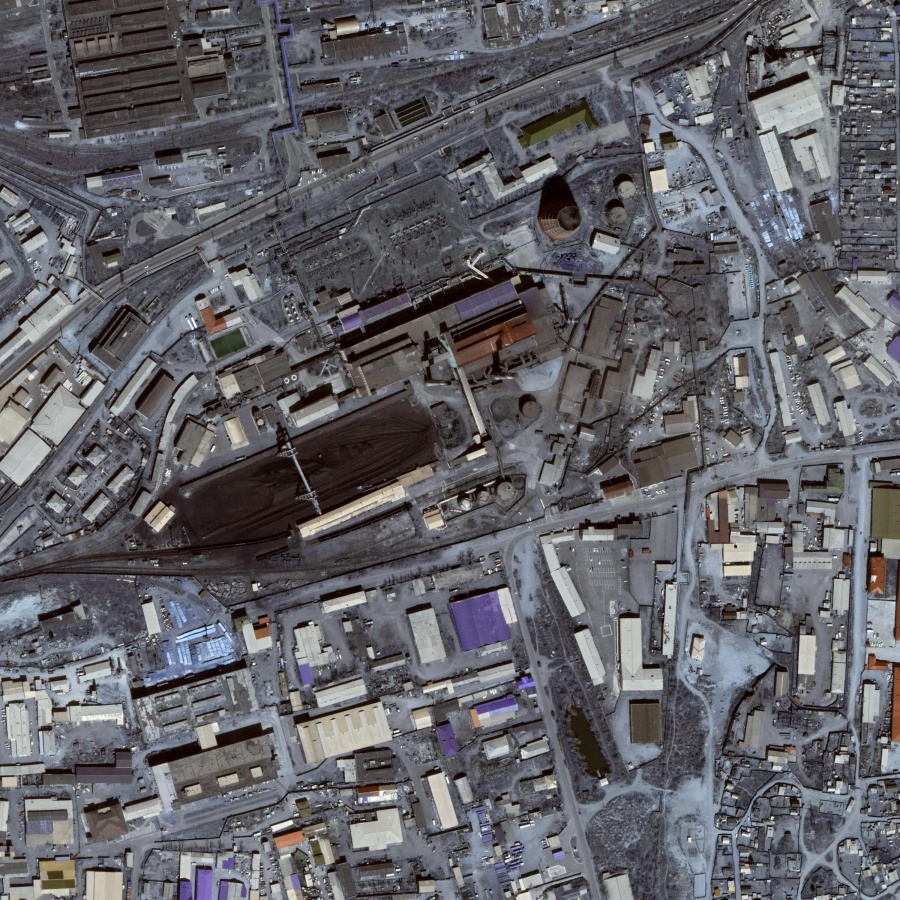PowerPlant: (164, 174, 645, 556)
